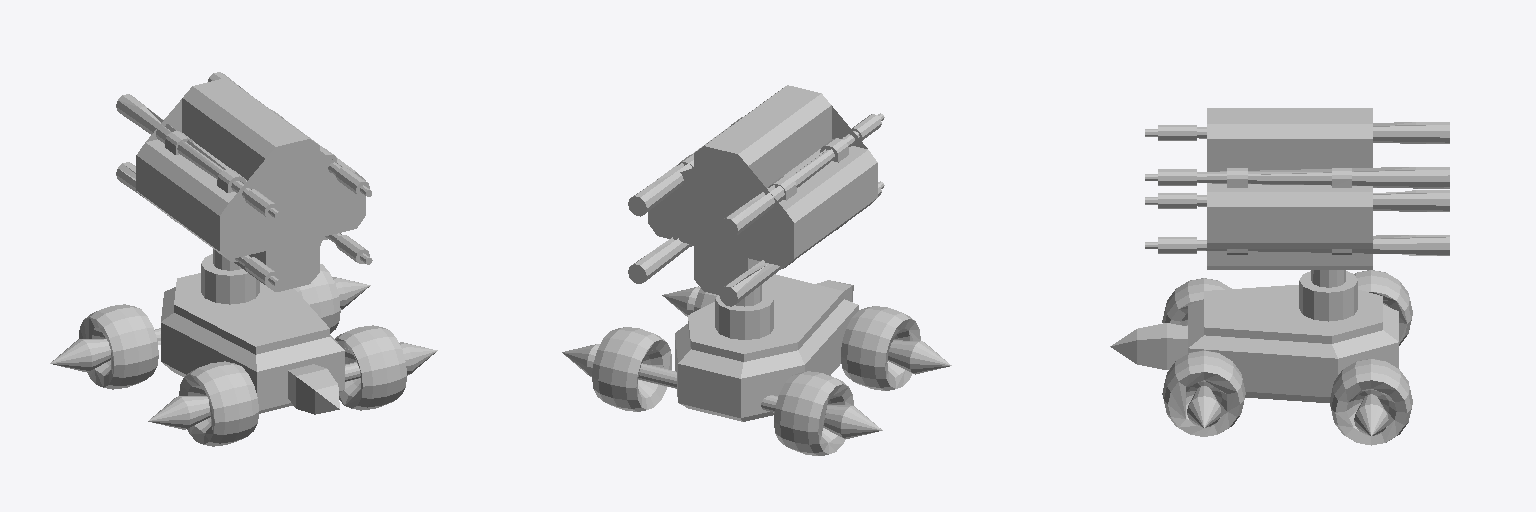
File: canon_drorania.obj
3 views of the same model, side by side, from view 1: azimuth 30°, elevation 25°; view 2: azimuth 150°, elevation 25°; view 3: azimuth 270°, elevation 25° (orthographic).
Visible parts, largest first — view 1: Torus.000_Torus.003; view 2: Torus.000_Torus.003; view 3: Torus.000_Torus.003.
Part boxes in pixels (left/top/right/bottom): Torus.000_Torus.003: left=50, top=72, right=437, bottom=446; Torus.000_Torus.003: left=562, top=85, right=951, bottom=455; Torus.000_Torus.003: left=1110, top=108, right=1449, bottom=445.
Size of the model in its own units: 5.82 by 4.84 by 5.33.